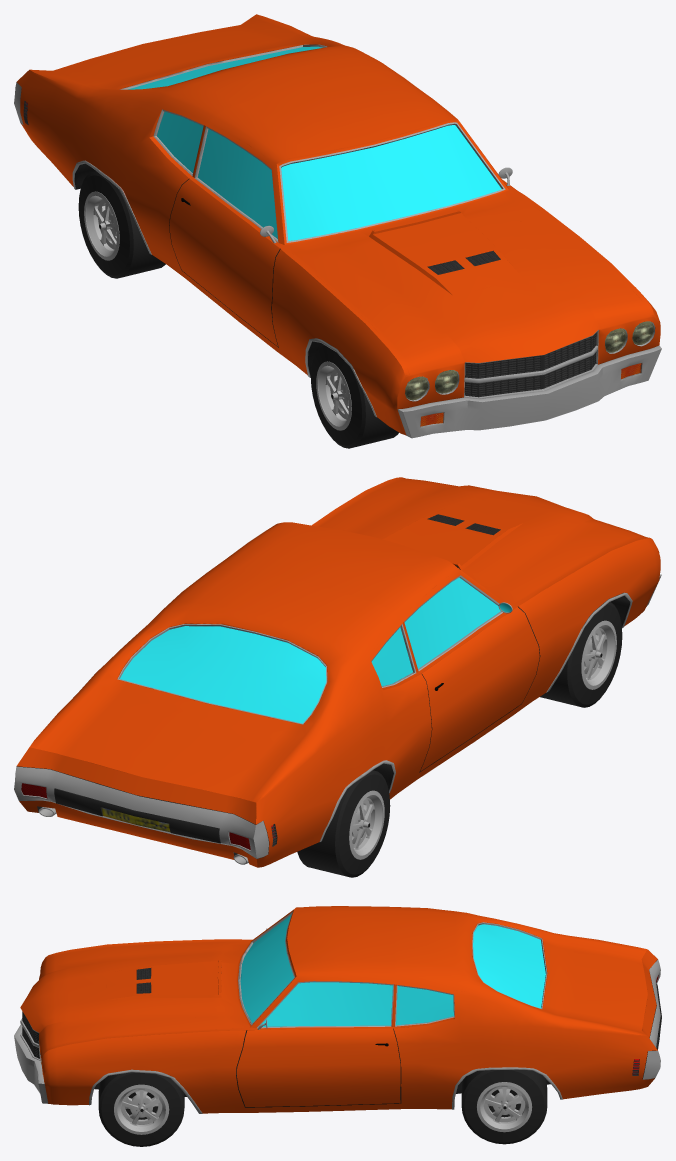
3 renders of one model, top to bottom at view 1: azimuth 30°, elevation 25°; view 2: azimuth 150°, elevation 25°; view 3: azimuth 270°, elevation 25°, orthographic. The views are drawn at different scales.
Parts seen in each view (by area): view 1: Plane, BL, FL; view 2: Plane, BL, FL; view 3: Plane, BR, FR.
Boxes of the visible parts, x1=… form: Plane: x1=14, y1=14, x2=661, y2=438; BL: x1=78, y1=171, x2=165, y2=278; FL: x1=310, y1=343, x2=398, y2=448; Plane: x1=14, y1=477, x2=661, y2=867; BL: x1=297, y1=770, x2=390, y2=877; FL: x1=540, y1=602, x2=622, y2=707; Plane: x1=14, y1=906, x2=661, y2=1113; BR: x1=461, y1=1069, x2=547, y2=1144; FR: x1=98, y1=1072, x2=184, y2=1146.
Bounding box in the file's own units: 2.55 × 1.86 × 6.66.
2 materials, 2 textured.
